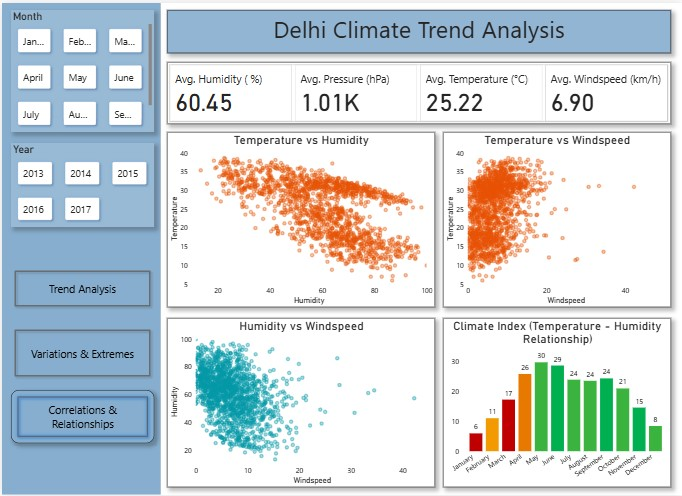

The page's visual inventory and layout, read from the dashboard file:
{"tool":"powerbi","page":{"name":"Correlations & Relationships","canvas":[1700,1230],"ordinal":2},"visuals":[{"type":"advancedSlicerVisual","fields":{"Values":["DateTable.Month"]},"box":[22.5,17.5,357.5,305],"z":0},{"type":"advancedSlicerVisual","fields":{"Values":["DateTable.Year"]},"box":[22.5,350,357.5,210],"z":1000},{"type":"actionButton","box":[22.5,660,357.5,107.5],"z":2000},{"type":"actionButton","box":[22.5,807.5,357.5,135],"z":3000},{"type":"textbox","box":[412.5,17.5,1260,107.5],"z":6000},{"type":"actionButton","box":[21.8,968.5,358.3,133.2],"z":7000},{"type":"cardVisual","fields":{"Data":["Avg(cleaned_data.Humidity)","Avg(cleaned_data.Meanpressure)","Avg(cleaned_data.Meantemp)","Avg(cleaned_data.Wind_speed)"]},"box":[412.5,147.5,1260,155],"z":8000},{"type":"scatterChart","title":"Temperature vs Humidity ","fields":{"X":["cleaned_data.Humidity"],"Y":["cleaned_data.Meantemp"]},"box":[412.5,322.5,670,437.5],"z":9000},{"type":"scatterChart","title":"Humidity vs Windspeed","fields":{"X":["cleaned_data.Wind_speed"],"Y":["cleaned_data.Humidity"]},"box":[412.5,787.5,670,422.5],"z":10000},{"type":"scatterChart","title":"Temperature vs Windspeed","fields":{"Y":["cleaned_data.Meantemp"],"X":["cleaned_data.Wind_speed"]},"box":[1102.5,322.5,570,437.5],"z":11000},{"type":"clusteredColumnChart","title":"Climate Index (Temperature - Humidity Relationship)","fields":{"Category":["DateTable.Month"],"Y":["DateTable.Climate Index"]},"box":[1103,788,570,423],"z":12000}]}

Visuals, with their boxes in screenshot pixels (x1, y1, x2, y2), scaled from the page's 1700x1230 canvas onto the 682x496 screenshot:
advancedSlicerVisual - DateTable.Month: <box>9,7,152,130</box>
advancedSlicerVisual - DateTable.Year: <box>9,141,152,226</box>
actionButton: <box>9,266,152,309</box>
actionButton: <box>9,326,152,380</box>
textbox: <box>165,7,671,50</box>
actionButton: <box>9,391,152,444</box>
cardVisual - Avg(cleaned_data.Humidity) x Avg(cleaned_data.Meanpressure): <box>165,59,671,122</box>
"Temperature vs Humidity " scatterChart: <box>165,130,434,306</box>
"Humidity vs Windspeed" scatterChart: <box>165,318,434,488</box>
"Temperature vs Windspeed" scatterChart: <box>442,130,671,306</box>
"Climate Index (Temperature - Humidity Relationship)" clusteredColumnChart: <box>442,318,671,488</box>
